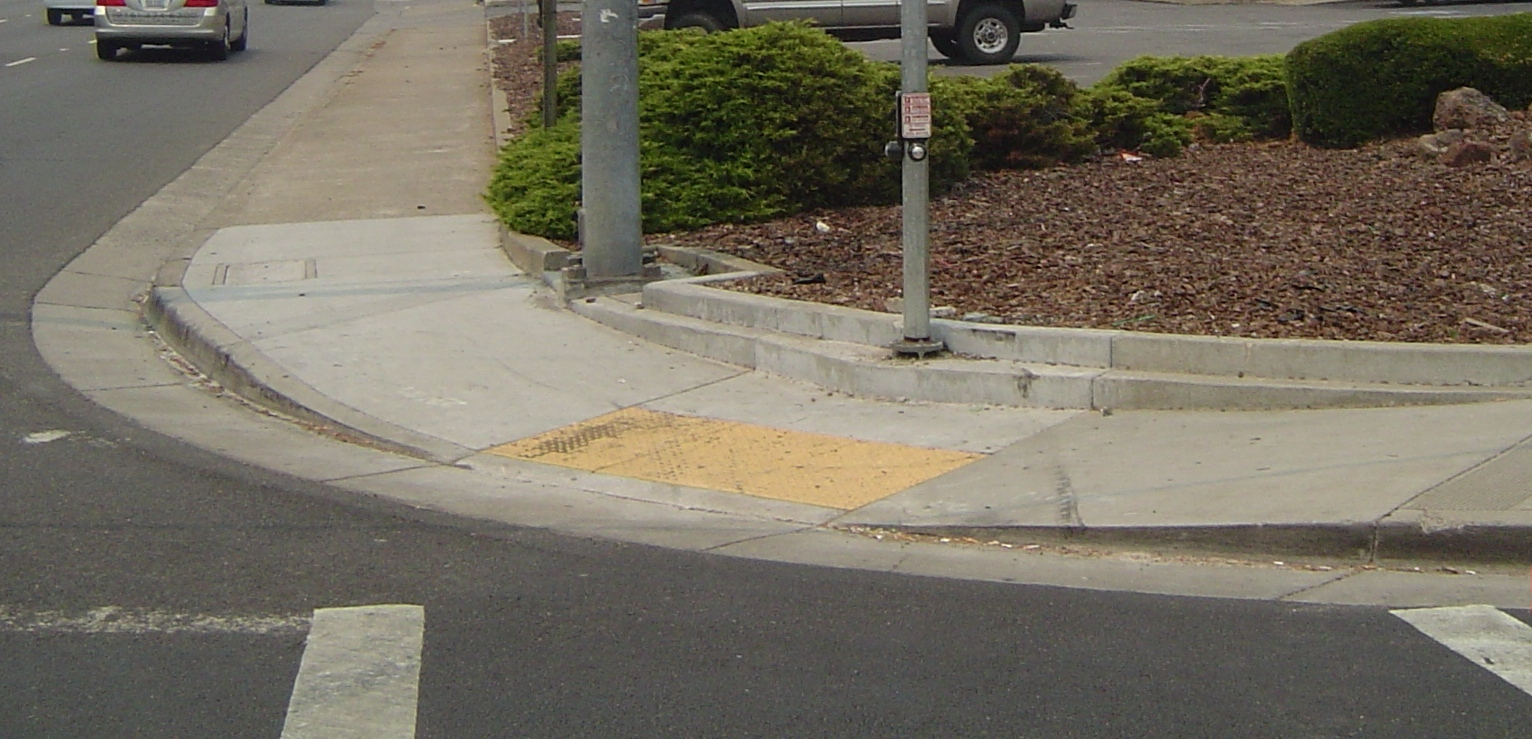ramp: (342, 328, 1019, 610)
